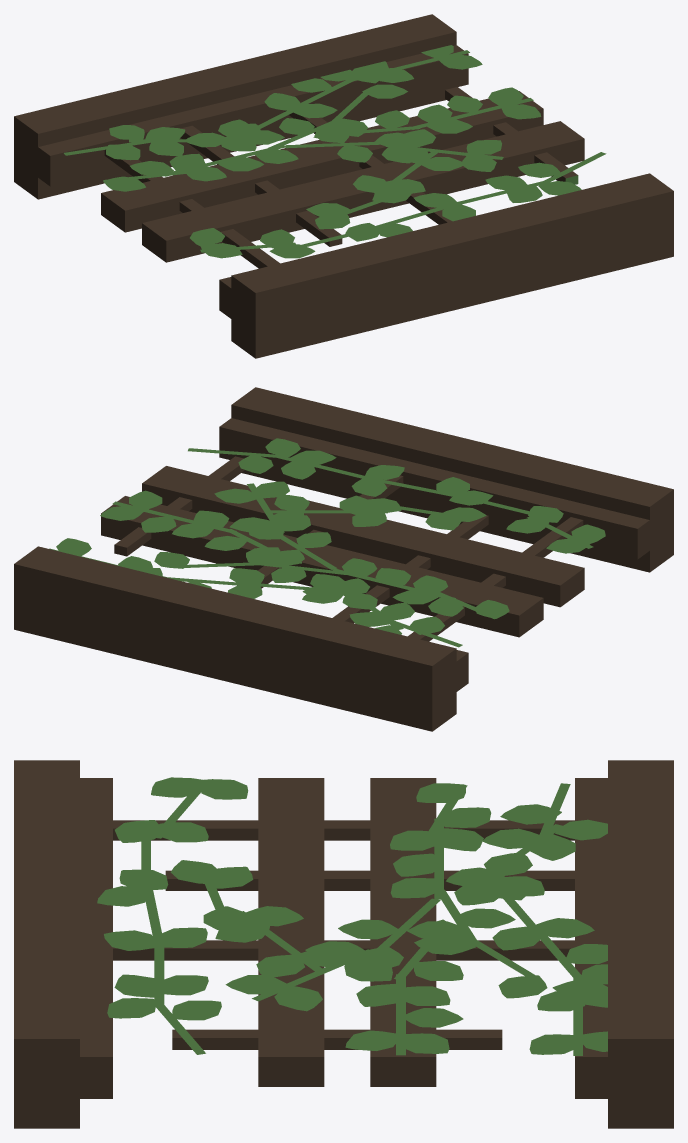
Rendered from A_WoodFrame08.fbx.
The picture shows the model from 3 angles, top to bottom: view 1: azimuth 30°, elevation 25°; view 2: azimuth 150°, elevation 25°; view 3: azimuth 270°, elevation 25°; orthographic projection. The views are drawn at different scales.
Visible parts, largest first — view 1: A_WoodFrame08; view 2: A_WoodFrame08; view 3: A_WoodFrame08.
Part boxes in pixels (<box>): A_WoodFrame08: <box>14,14,673,358</box>; A_WoodFrame08: <box>14,387,673,731</box>; A_WoodFrame08: <box>14,760,673,1128</box>.
Bounding box in the file's own units: 100 × 15 × 100.
